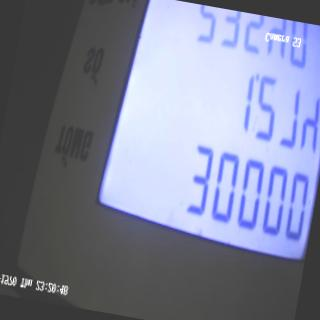screen: (87, 0, 320, 267)
